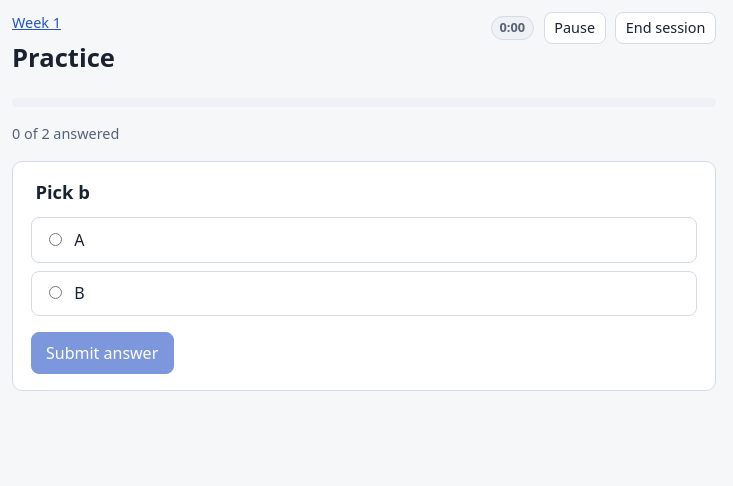
Scenario: PlayScreen › retries a failed submit with the same idempotency key
The width and height of the screenshot is (733, 486).
Step 1. Click the radio button labelled "A" → (55,239), box [49, 233, 62, 246]
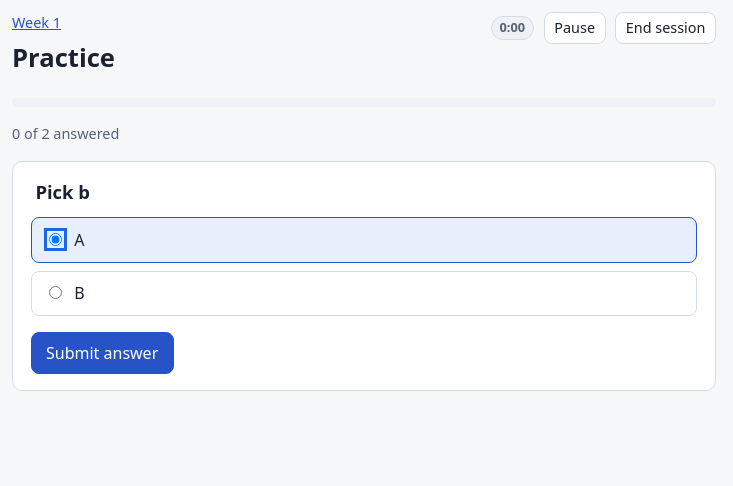
Step 2. Click the button "Submit answer" → (102,353), box [31, 332, 174, 374]
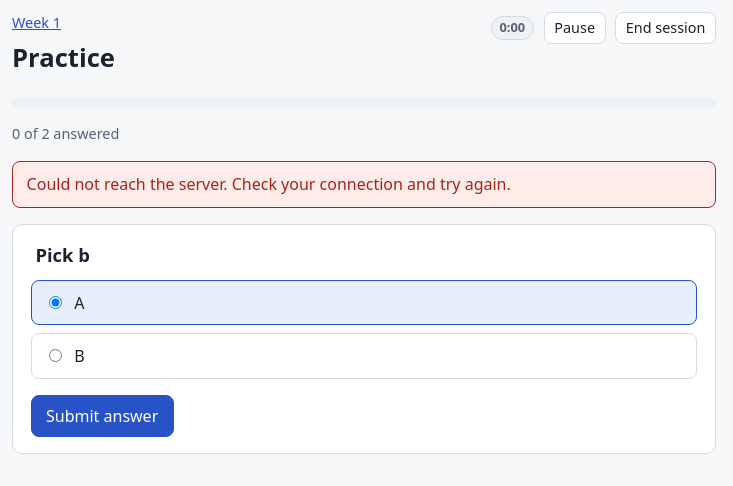
Expected: the message shows "Could not reach the server", [27, 173, 511, 195]
Step 3. Click the button "Submit answer" → (102,416), box [31, 395, 174, 437]
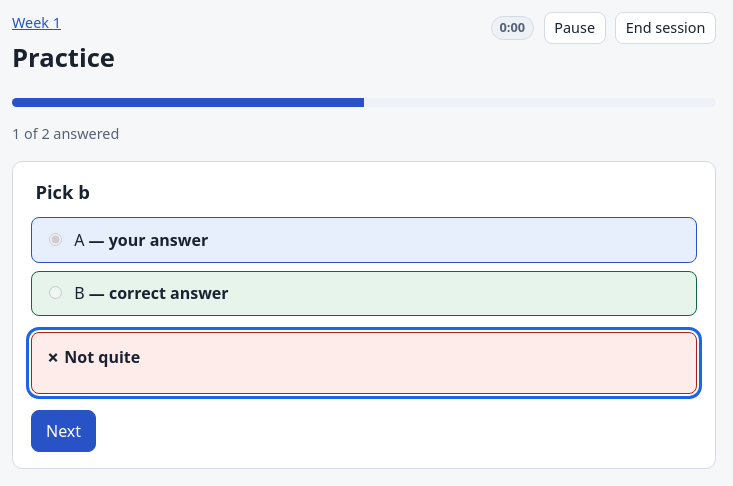
Expected: the text "✗ Not quite" is shown, [46, 346, 140, 368]
